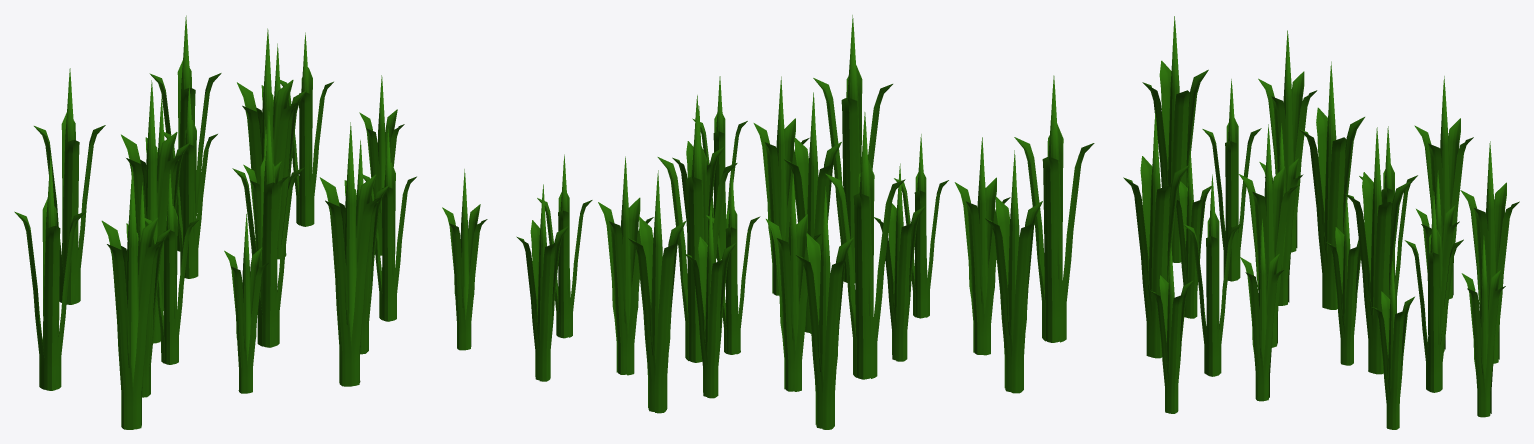
File: plants.gltf
The picture shows the model from 3 angles, left to right: view 1: azimuth 30°, elevation 25°; view 2: azimuth 150°, elevation 25°; view 3: azimuth 270°, elevation 25°; orthographic projection. The views are drawn at different scales.
Visible parts, largest first — view 1: Plane_Duplicate1 (×17), Plane_Duplicate2 (×13), Cone (×11), Plane_Duplicate3 (×14); view 2: Plane_Duplicate (×19), Plane_Duplicate2 (×17), Cone (×15), Plane_Duplicate3 (×14), Plane_Duplicate1 (×4); view 3: Plane_Duplicate3 (×17), Plane_Duplicate (×16), Cone (×14), Plane_Duplicate1 (×15), Plane_Duplicate2 (×9).
Part boxes in pixels (x1=…): Plane_Duplicate1 (×17): x1=44, y1=87, x2=487, y2=429; Plane_Duplicate2 (×13): x1=14, y1=105, x2=465, y2=429; Cone (×11): x1=42, y1=15, x2=469, y2=386; Plane_Duplicate3 (×14): x1=56, y1=73, x2=416, y2=425; Plane_Duplicate (×19): x1=516, y1=97, x2=1060, y2=428; Plane_Duplicate2 (×17): x1=539, y1=84, x2=1094, y2=429; Cone (×15): x1=537, y1=15, x2=1062, y2=381; Plane_Duplicate3 (×14): x1=530, y1=78, x2=1045, y2=424; Plane_Duplicate1 (×4): x1=629, y1=118, x2=996, y2=303; Plane_Duplicate3 (×17): x1=1151, y1=90, x2=1493, y2=429; Plane_Duplicate (×16): x1=1167, y1=69, x2=1519, y2=416; Cone (×14): x1=1148, y1=16, x2=1496, y2=391; Plane_Duplicate1 (×15): x1=1123, y1=78, x2=1480, y2=429; Plane_Duplicate2 (×9): x1=1140, y1=60, x2=1506, y2=413.
Size of the model in its own units: 0.0227 by 0.013 by 0.0191.
